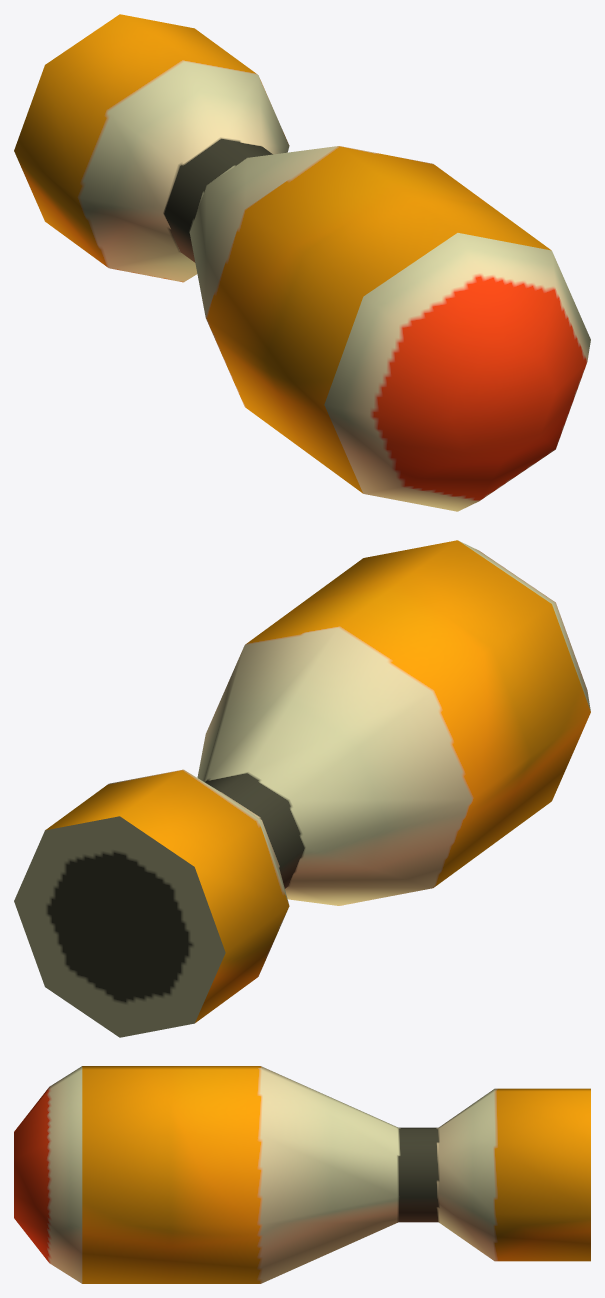
File: misil_02.fbx
The picture shows the model from 3 angles, top to bottom: view 1: azimuth 30°, elevation 25°; view 2: azimuth 150°, elevation 25°; view 3: azimuth 270°, elevation 25°; orthographic projection. The views are drawn at different scales.
Parts seen in each view (by area): view 1: obj_misil; view 2: obj_misil; view 3: obj_misil.
Part boxes in pixels (x1=…): obj_misil: x1=14, y1=14, x2=590, y2=511; obj_misil: x1=14, y1=540, x2=590, y2=1037; obj_misil: x1=14, y1=1066, x2=590, y2=1283.
Size of the model in its own units: 13.39 by 13.39 by 33.31.
1 material, 1 textured.
